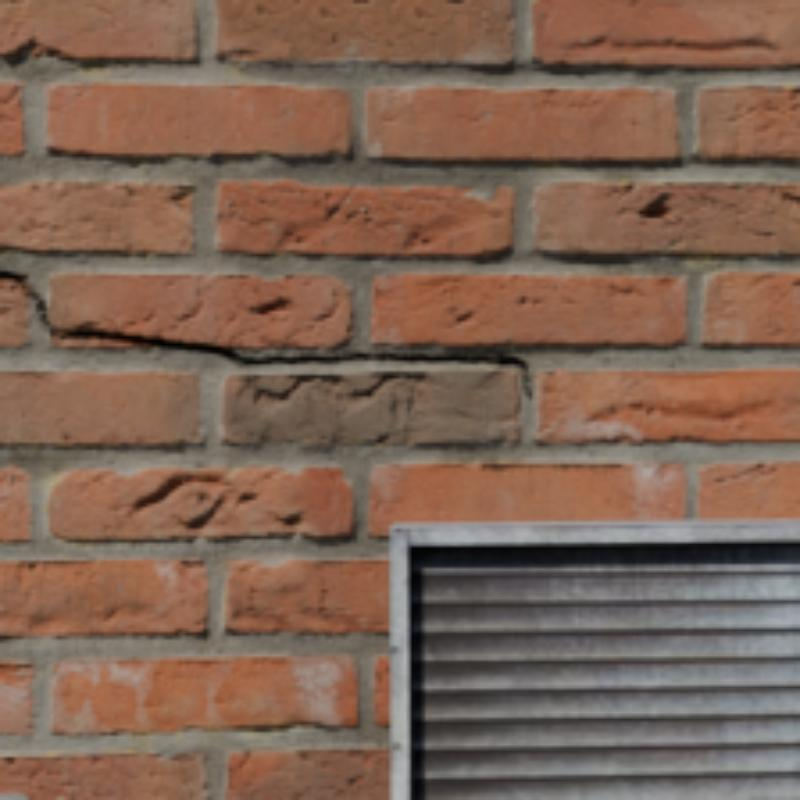crack: (0, 271, 529, 396)
